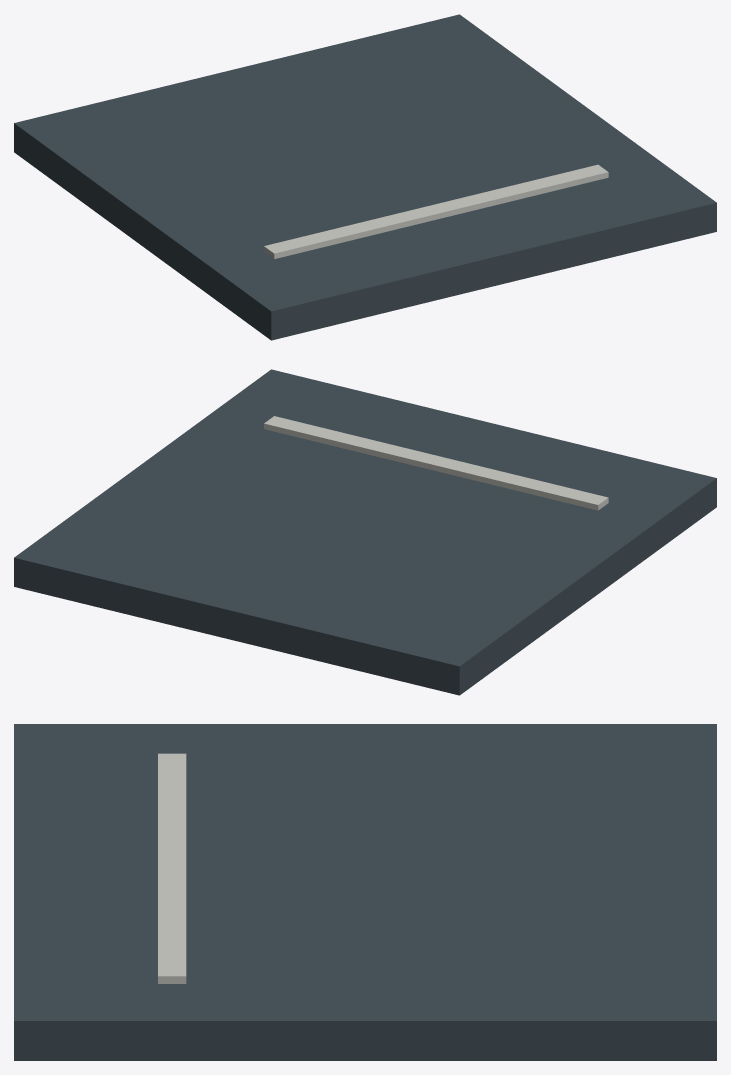
The model's file is terrain-road-end.lod0.glb.
The picture shows the model from 3 angles, top to bottom: view 1: azimuth 30°, elevation 25°; view 2: azimuth 150°, elevation 25°; view 3: azimuth 270°, elevation 25°; orthographic projection. The views are drawn at different scales.
Visible parts, largest first — view 1: terrain-road-end__body; view 2: terrain-road-end__body; view 3: terrain-road-end__body.
Boxes of the visible parts, left/top/right/bottom form: terrain-road-end__body: left=14, top=14, right=716, bottom=340; terrain-road-end__body: left=14, top=369, right=716, bottom=695; terrain-road-end__body: left=14, top=724, right=716, bottom=1060.
Size of the model in its own units: 2 by 0.149 by 2.
